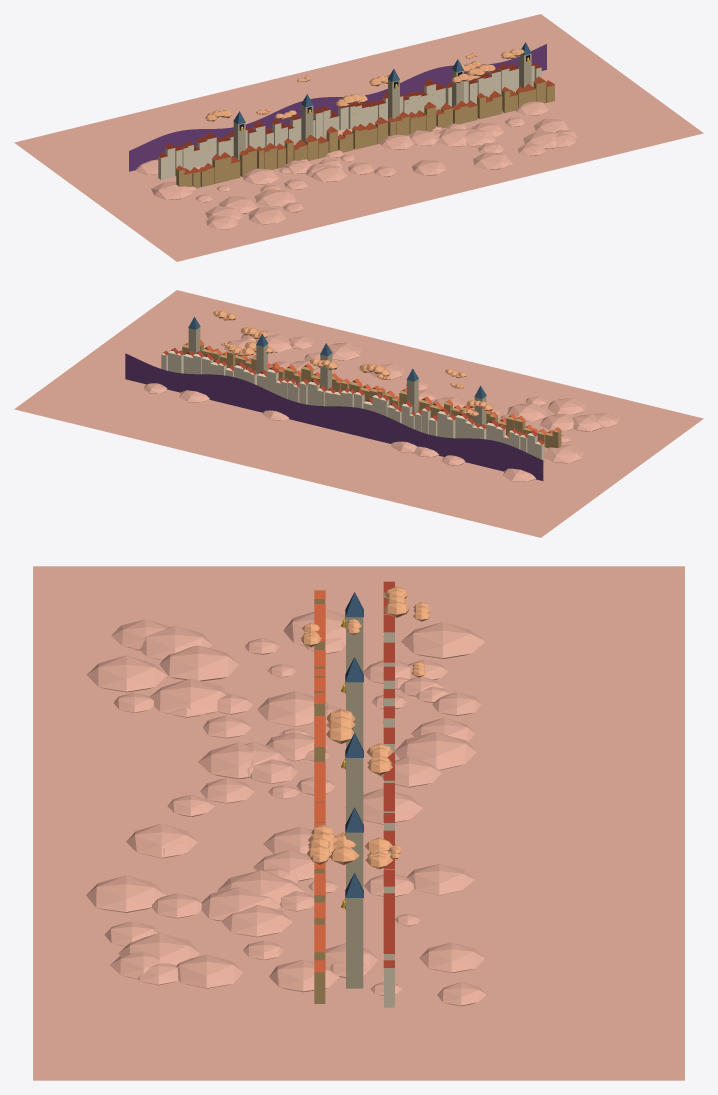
Rendered from backdrop-1.glb.
3 views of the same model, one above another, from view 1: azimuth 30°, elevation 25°; view 2: azimuth 150°, elevation 25°; view 3: azimuth 270°, elevation 25° (orthographic). The views are drawn at different scales.
Parts seen in each view (by area): view 1: Model; view 2: Model; view 3: Model.
Part boxes in pixels (bbox=[...]): Model: bbox=[14, 14, 703, 261]; Model: bbox=[14, 290, 703, 537]; Model: bbox=[33, 566, 684, 1080].
Size of the model in its own units: 280 by 33.99 by 150.
Materials: 1 (1 with a texture image).
